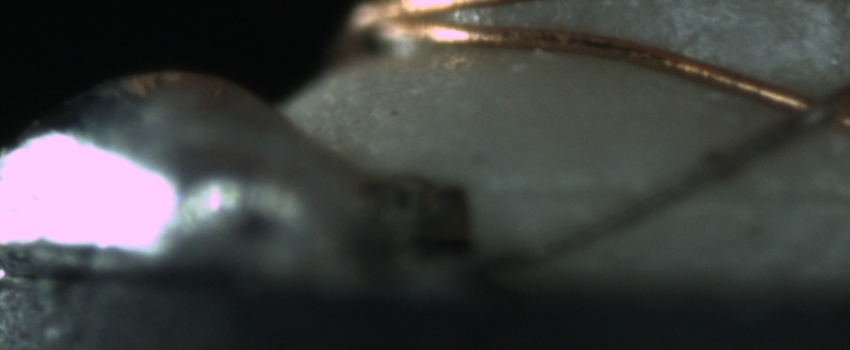CL: (763, 78, 846, 141)
DL: (484, 166, 850, 229)
